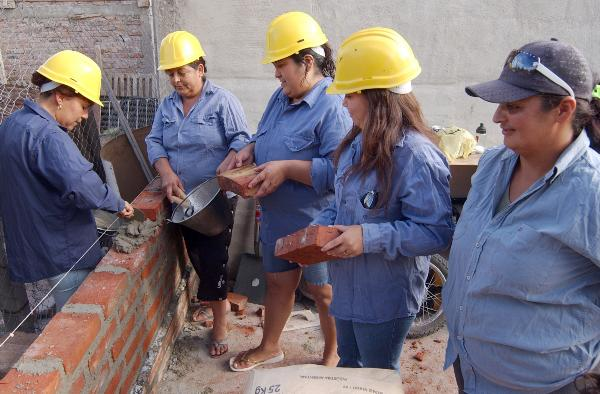casco: (324, 26, 423, 96), (34, 49, 106, 110), (261, 10, 329, 66), (154, 29, 208, 72)
